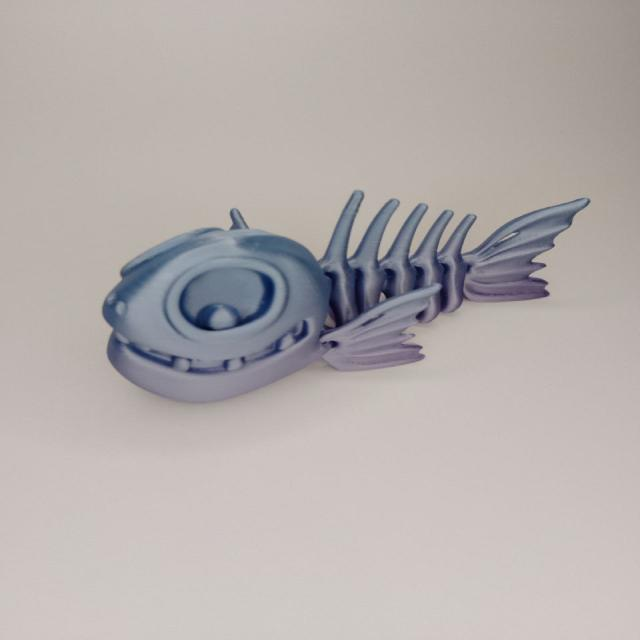Without deffect: (90, 165, 618, 408)
